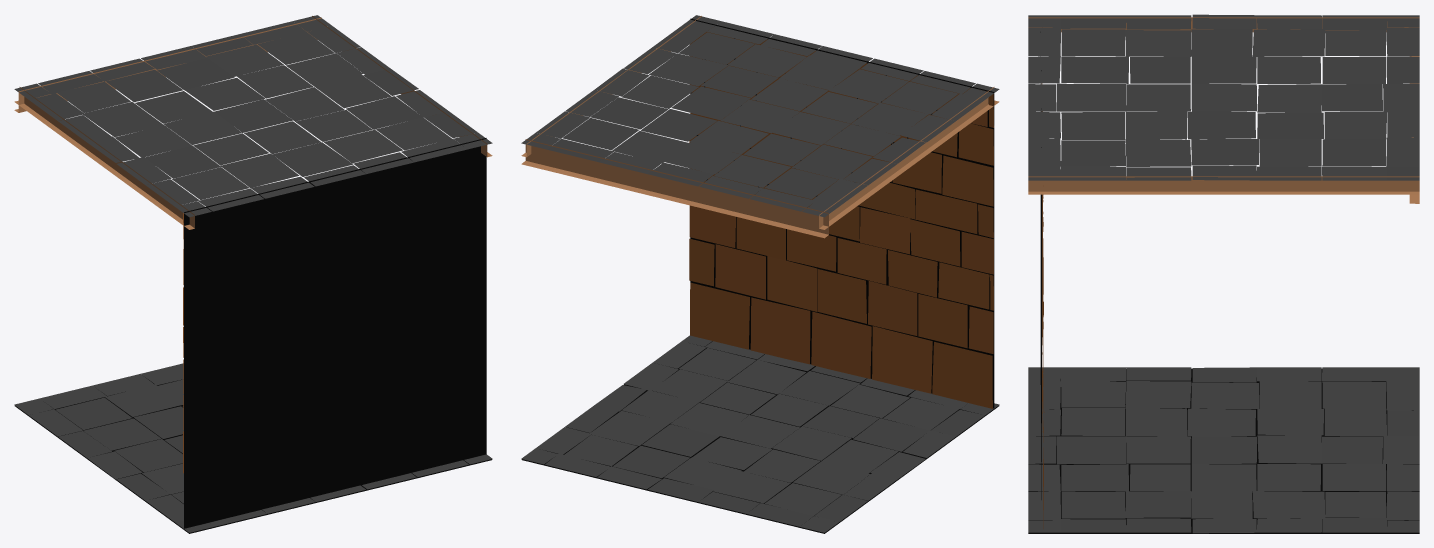
File: wall_8.glb
The picture shows the model from 3 angles, left to right: view 1: azimuth 30°, elevation 25°; view 2: azimuth 150°, elevation 25°; view 3: azimuth 270°, elevation 25°; orthographic projection. The views are drawn at different scales.
Parts seen in each view (by area): view 1: wall_8; view 2: wall_8; view 3: wall_8.
Part boxes in pixels (<box>): wall_8: <box>14,15,492,533</box>; wall_8: <box>521,15,999,533</box>; wall_8: <box>1028,14,1419,533</box>.
Bounding box in the file's own units: 3 × 3 × 3.
1 material, 1 textured.
